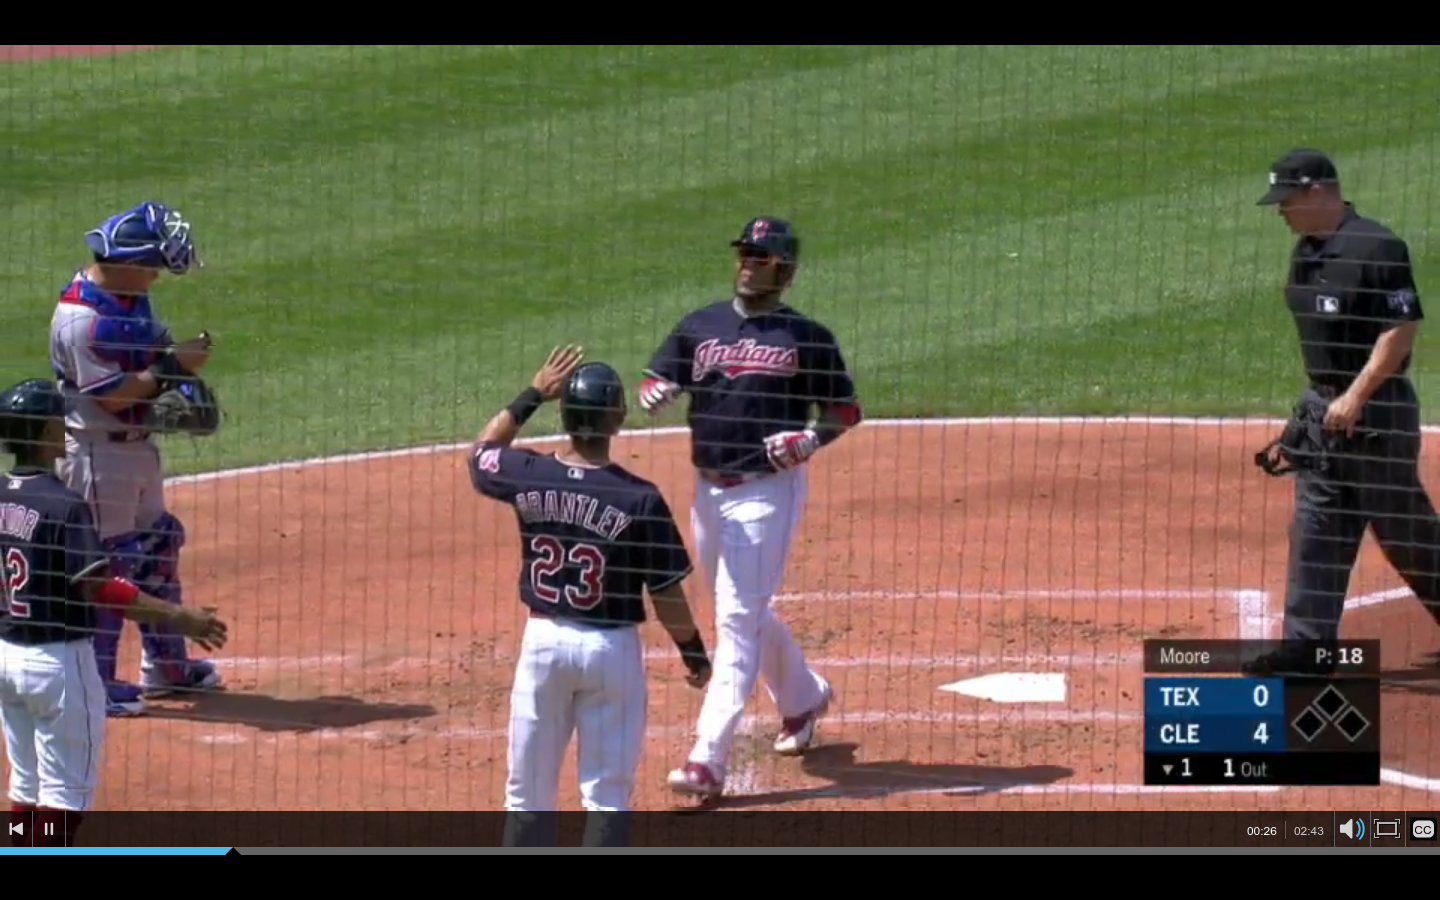baseball player: (641, 200, 868, 809), (453, 332, 715, 840), (45, 197, 232, 722), (1, 385, 128, 823)
referee: (1255, 131, 1440, 706)
